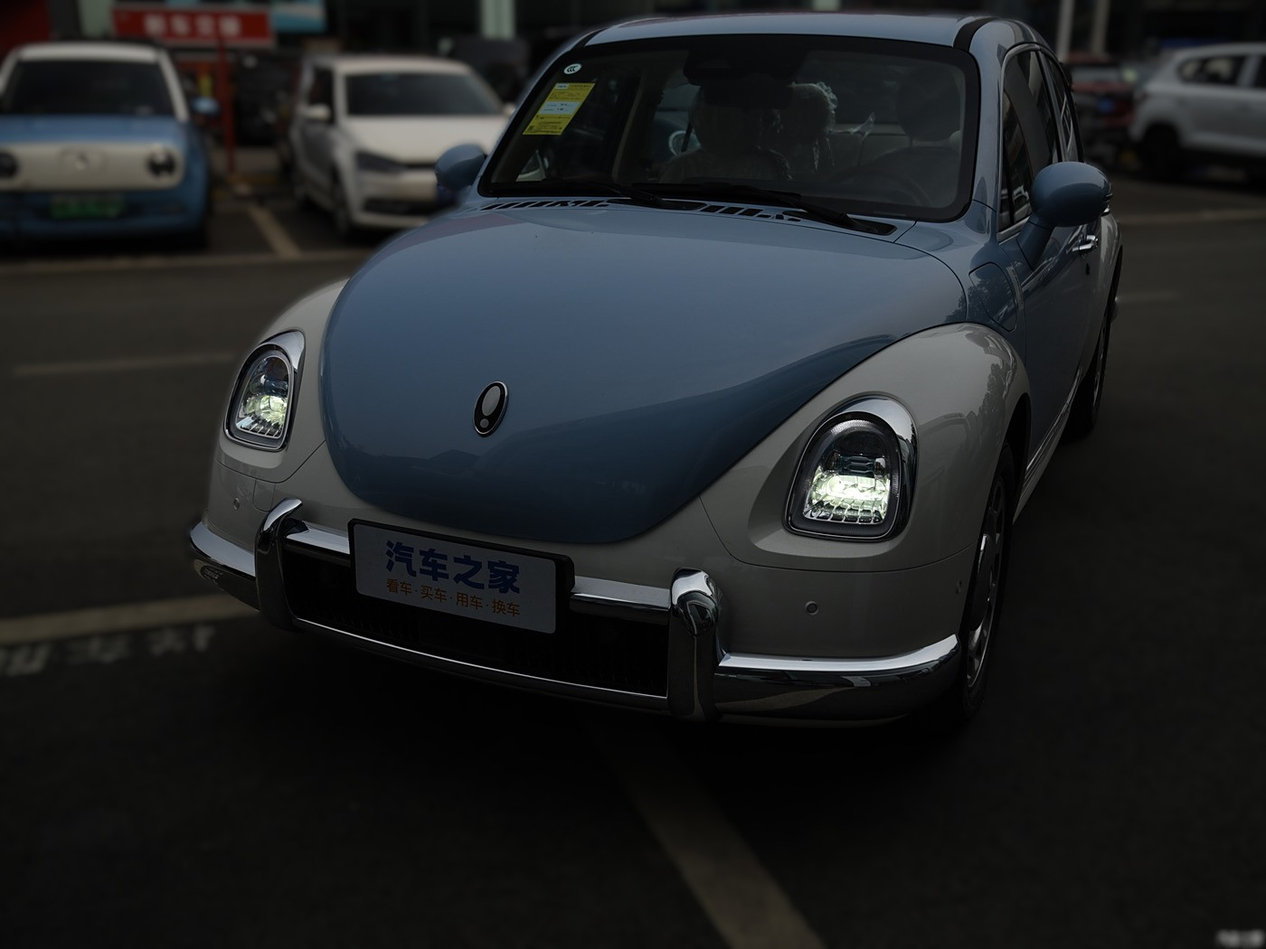ORA: (475, 382, 506, 434)
